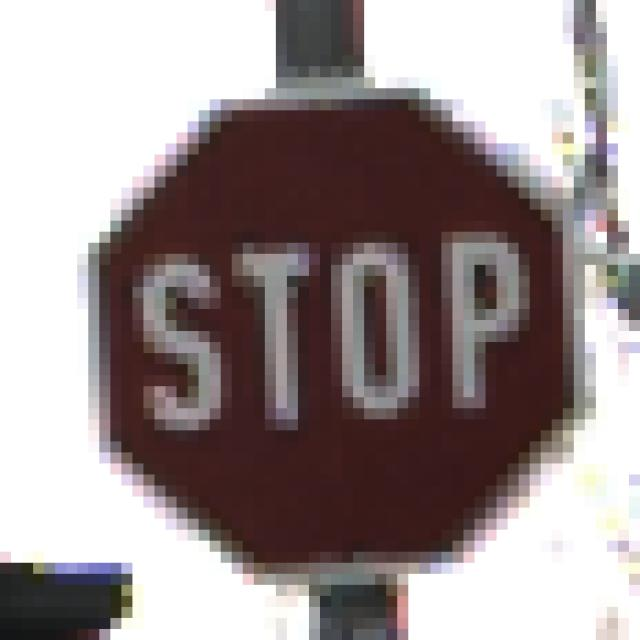STOP: (67, 67, 575, 586)
